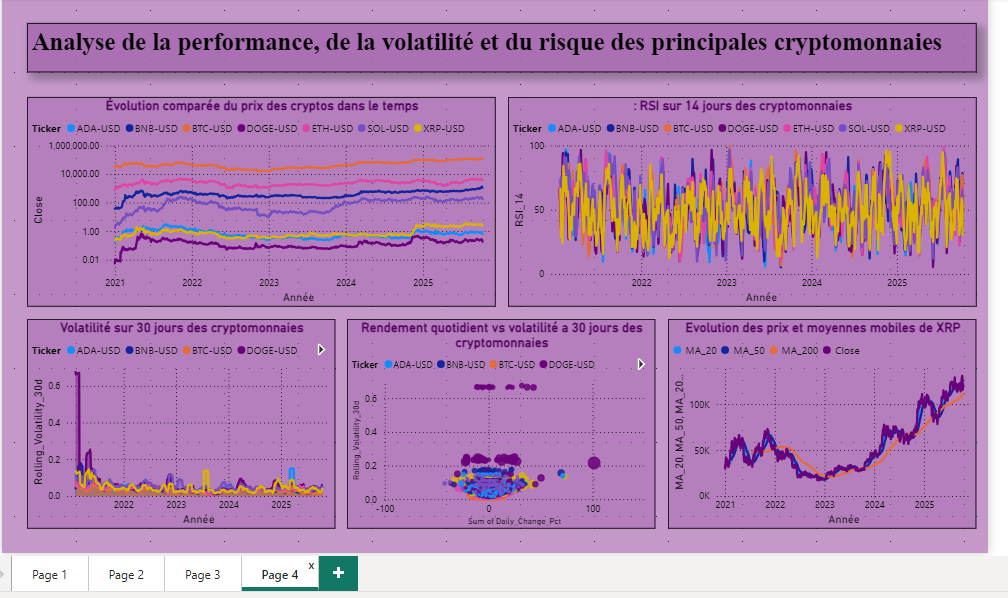

What the dashboard file says about the page in this screenshot:
{"tool":"powerbi","page":{"name":"Page 4","canvas":[1280,720],"ordinal":3},"visuals":[{"type":"areaChart","title":"Volatilité sur 30  jours des cryptomonnaies","fields":{"Category":["cryptos_yahoo_enriched_2021_2025.Date.Variation.Hiérarchie de dates.Année","cryptos_yahoo_enriched_2021_2025.Date.Variation.Hiérarchie de dates.Trimestre","cryptos_yahoo_enriched_2021_2025.Date.Variation.Hiérarchie de dates.Mois","cryptos_yahoo_enriched_2021_2025.Date.Variation.Hiérarchie de dates.Jour"],"Y":["Sum(cryptos_yahoo_enriched_2021_2025.Rolling_Volatility_30d)"],"Series":["cryptos_yahoo_enriched_2021_2025.Ticker"]},"box":[32,416,400,272],"z":1000},{"type":"lineChart","title":"Evolution des prix et moyennes mobiles de XRP","fields":{"Y":["Sum(cryptos_yahoo_enriched_2021_2025.MA_20)","Sum(cryptos_yahoo_enriched_2021_2025.MA_50)","Sum(cryptos_yahoo_enriched_2021_2025.MA_200)","Sum(cryptos_yahoo_enriched_2021_2025.Close)"],"Category":["cryptos_yahoo_enriched_2021_2025.Date.Variation.Hiérarchie de dates.Année","cryptos_yahoo_enriched_2021_2025.Date.Variation.Hiérarchie de dates.Trimestre","cryptos_yahoo_enriched_2021_2025.Date.Variation.Hiérarchie de dates.Mois","cryptos_yahoo_enriched_2021_2025.Date.Variation.Hiérarchie de dates.Jour"]},"box":[864,416,400,272],"z":2000},{"type":"lineChart","title":"Évolution comparée du prix des cryptos dans le temps ","fields":{"Y":["Sum(cryptos_yahoo_enriched_2021_2025.Close)"],"Series":["cryptos_yahoo_enriched_2021_2025.Ticker"],"Category":["cryptos_yahoo_enriched_2021_2025.Date.Variation.Hiérarchie de dates.Année","cryptos_yahoo_enriched_2021_2025.Date.Variation.Hiérarchie de dates.Trimestre","cryptos_yahoo_enriched_2021_2025.Date.Variation.Hiérarchie de dates.Mois","cryptos_yahoo_enriched_2021_2025.Date.Variation.Hiérarchie de dates.Jour"]},"box":[32,128,608,272],"z":3000},{"type":"lineChart","title":": RSI sur 14 jours des cryptomonnaies","fields":{"Y":["Sum(cryptos_yahoo_enriched_2021_2025.RSI_14)"],"Series":["cryptos_yahoo_enriched_2021_2025.Ticker"],"Category":["cryptos_yahoo_enriched_2021_2025.Date.Variation.Hiérarchie de dates.Année","cryptos_yahoo_enriched_2021_2025.Date.Variation.Hiérarchie de dates.Trimestre","cryptos_yahoo_enriched_2021_2025.Date.Variation.Hiérarchie de dates.Mois","cryptos_yahoo_enriched_2021_2025.Date.Variation.Hiérarchie de dates.Jour"]},"box":[656,128,608,272],"z":4000},{"type":"scatterChart","title":"Rendement quotidient vs volatilité a 30 jours des cryptomonnaies","fields":{"Series":["cryptos_yahoo_enriched_2021_2025.Ticker"],"Size":["Sum(cryptos_yahoo_enriched_2021_2025.Volume)"],"X":["Sum(cryptos_yahoo_enriched_2021_2025.Daily_Change_Pct)"],"Y":["cryptos_yahoo_enriched_2021_2025.Rolling_Volatility_30d"]},"box":[448,416,400,272],"z":7000},{"type":"textbox","box":[32,32,1232,64],"z":7001}]}

Visuals, with their boxes on the page's 1280x720 design canvas (x1, y1, x2, y2). These are canvas units, not pixel positions in the 1008x598 screenshot, which may show the page scaled, cropped or inside an application window:
"Volatilité sur 30  jours des cryptomonnaies" areaChart: [32, 416, 432, 688]
"Evolution des prix et moyennes mobiles de XRP" lineChart: [864, 416, 1264, 688]
"Évolution comparée du prix des cryptos dans le temps " lineChart: [32, 128, 640, 400]
": RSI sur 14 jours des cryptomonnaies" lineChart: [656, 128, 1264, 400]
"Rendement quotidient vs volatilité a 30 jours des cryptomonnaies" scatterChart: [448, 416, 848, 688]
textbox: [32, 32, 1264, 96]
